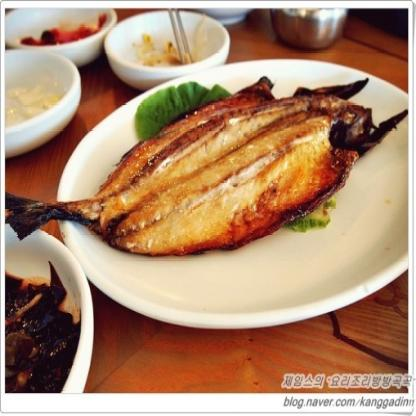Peixe: (2, 63, 396, 288)
